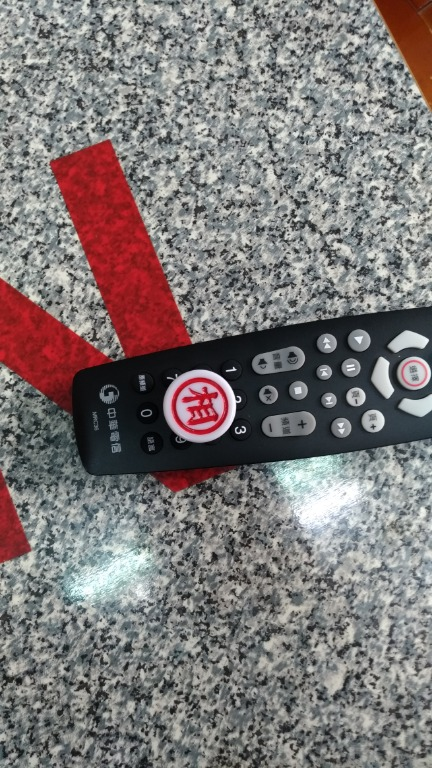r-elephant: (155, 362, 269, 460)
